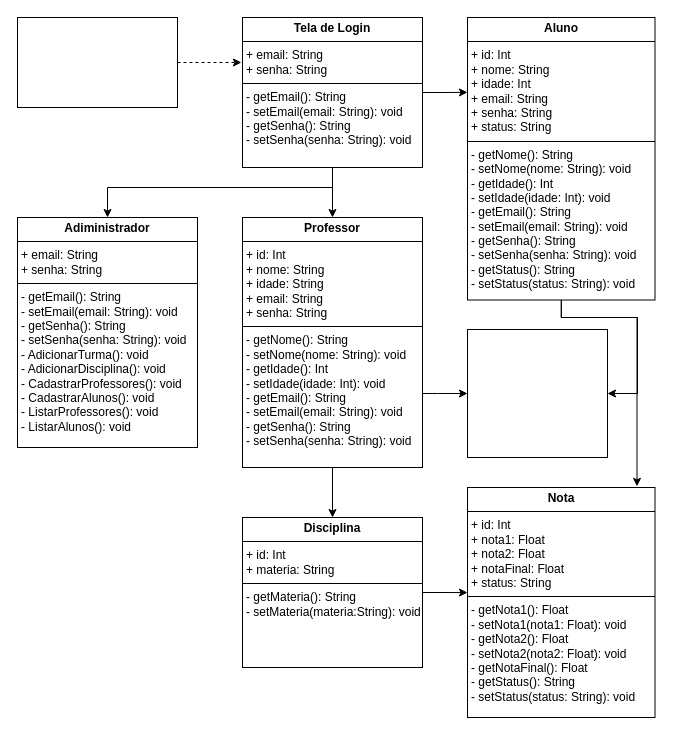
This 673x735 diagram has some shape labels left out. Each missing label, with the centre of its shape:
Menu 1- Adiministrador 2- Professores 3- Alunos: (x=97, y=62)
Turma + id: Int + ano: Int + getAno(): Int + setAno(ano: Int): void: (x=537, y=393)
